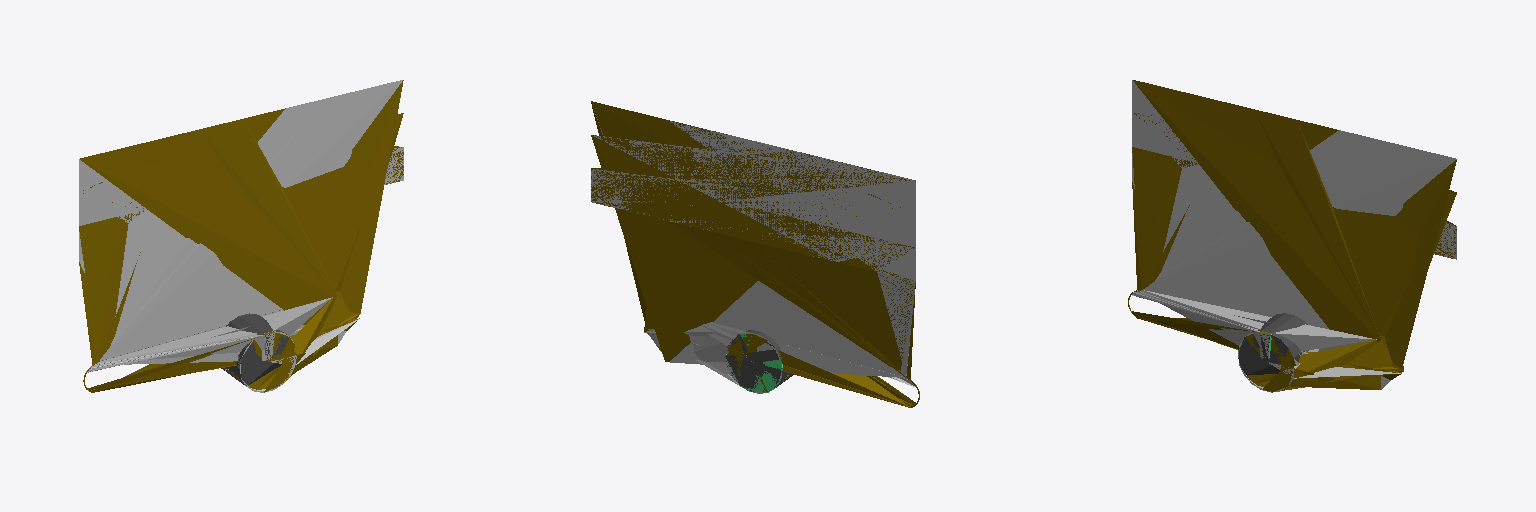
File: resistor.obj
3 renders of one model, left to right at view 1: azimuth 30°, elevation 25°; view 2: azimuth 150°, elevation 25°; view 3: azimuth 330°, elevation 25°, orthographic.
Parts seen in each view (by area): view 1: Torus002, TextPlus001, Cylinder001; view 2: Torus002, TextPlus001, Box001; view 3: Torus002, TextPlus001, Cylinder001.
Boxes of the visible parts, <box> form: Torus002: <box>79,80,403,392</box>; TextPlus001: <box>79,80,403,392</box>; Cylinder001: <box>221,313,291,385</box>; Torus002: <box>591,101,919,407</box>; TextPlus001: <box>591,111,915,393</box>; Box001: <box>725,334,786,392</box>; Torus002: <box>1128,80,1456,392</box>; TextPlus001: <box>1132,80,1456,392</box>; Cylinder001: <box>1238,313,1308,375</box>.
Size of the model in its own units: 10.1 by 7.48 by 1.58.